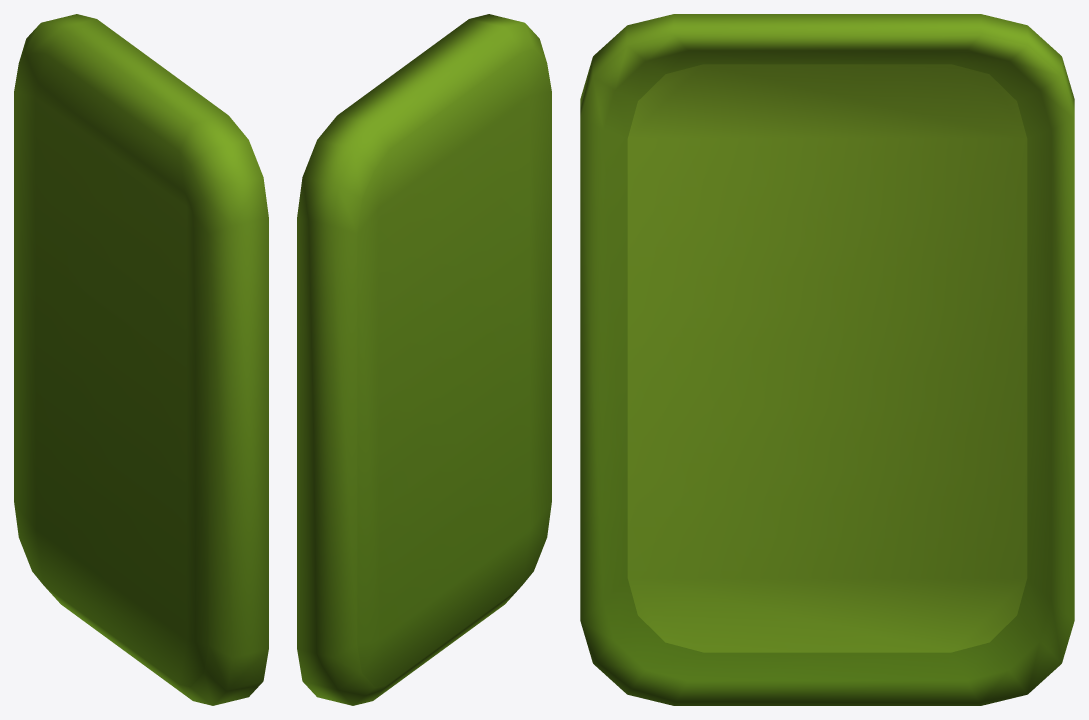
Rendered from Stand.fbx.
3 renders of one model, left to right at view 1: azimuth 30°, elevation 25°; view 2: azimuth 150°, elevation 25°; view 3: azimuth 270°, elevation 25°, orthographic. The views are drawn at different scales.
Parts seen in each view (by area): view 1: Stand; view 2: Stand; view 3: Stand.
Part boxes in pixels (x1,y1,x2,y2): Stand: [14, 14, 268, 705]; Stand: [297, 14, 551, 705]; Stand: [580, 14, 1074, 705].
Bounding box in the file's own units: 1.22 × 13.07 × 8.71.
